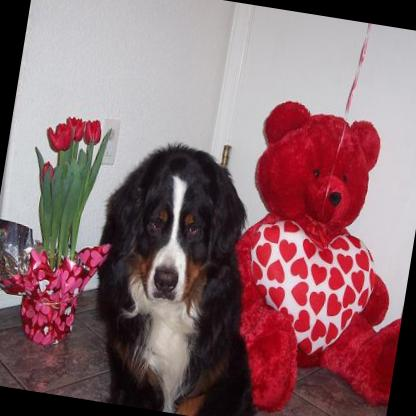Bernese_mountain_dog: (74, 129, 298, 416)
